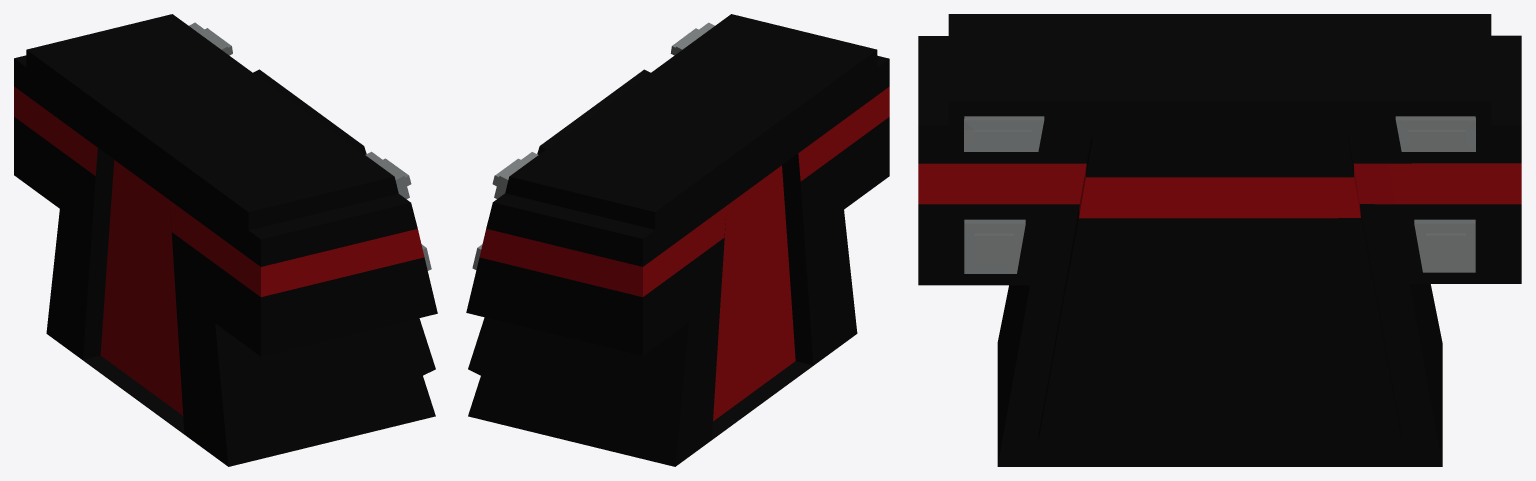
Rendered from fbx_torso_Punk.fbx.
The picture shows the model from 3 angles, left to right: view 1: azimuth 30°, elevation 25°; view 2: azimuth 150°, elevation 25°; view 3: azimuth 270°, elevation 25°; orthographic projection. The views are drawn at different scales.
Parts seen in each view (by area): view 1: sm_torso_Pnk; view 2: sm_torso_Pnk; view 3: sm_torso_Pnk.
Boxes of the visible parts, left/top/right/bottom form: sm_torso_Pnk: left=14, top=14, right=437, bottom=466; sm_torso_Pnk: left=466, top=14, right=889, bottom=466; sm_torso_Pnk: left=918, top=14, right=1521, bottom=466.
Size of the model in its own units: 21.8 by 25.02 by 41.55.
